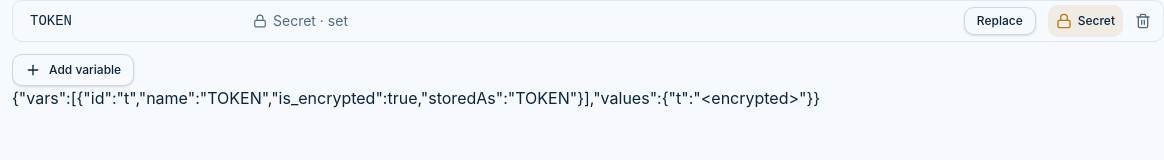
it: VariablesEditor › never shows a stored secret or its placeholder: Replace opens an empty field
The image size is (1164, 160).
Expected: the text "Secret · set" is shown, x1=273 y1=11 x2=348 y2=31
Click the button with aria-label "Replace TOKEN" at (1000, 21), box x1=964 y1=7 x2=1036 y2=35
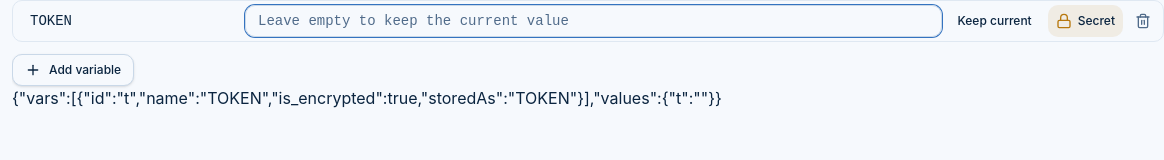
Now the password field named "Value of TOKEN" is empty
Type "hunter2" into the password field named "Value of TOKEN" at (593, 21), box x1=245 y1=5 x2=942 y2=37
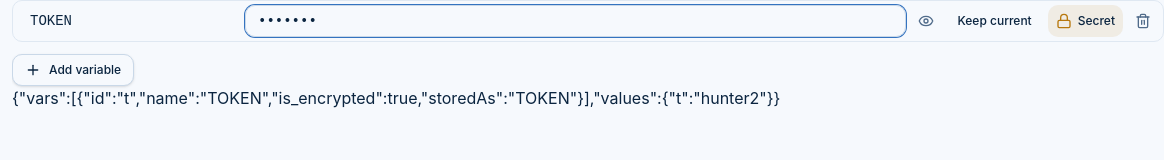
Click the button named "Show value" at (926, 21), box x1=910 y1=5 x2=942 y2=37
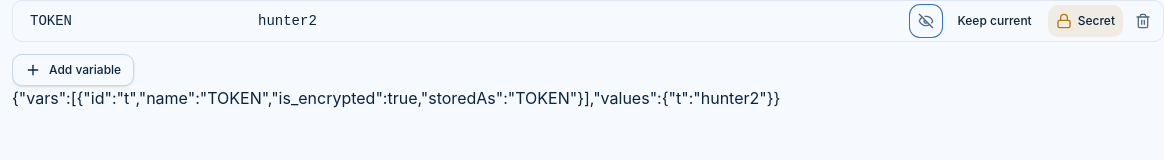
Now the field named "Value of TOKEN" shows its text, box x1=245 y1=5 x2=906 y2=37
Keep current goes back to the stored value.
Click the button "Keep current" at (995, 21), box x1=946 y1=5 x2=1044 y2=37
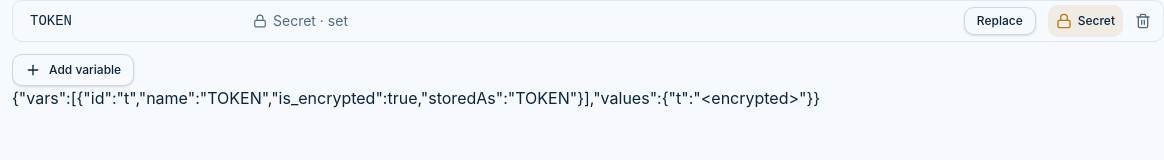
Now the text "Secret · set" is shown, box x1=273 y1=11 x2=348 y2=31
